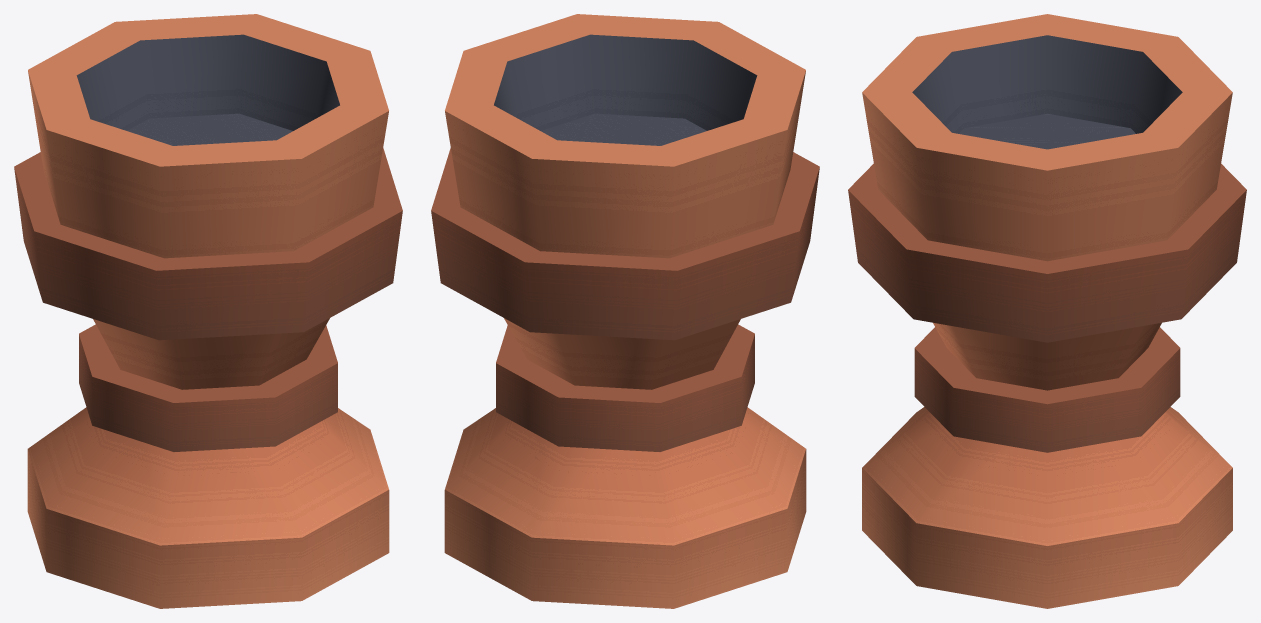
The model's file is hol-kwanzaa-kikombe.glb.
3 renders of one model, left to right at view 1: azimuth 30°, elevation 25°; view 2: azimuth 150°, elevation 25°; view 3: azimuth 270°, elevation 25°, orthographic.
Parts seen in each view (by area): view 1: kwanzaa-kikombe; view 2: kwanzaa-kikombe; view 3: kwanzaa-kikombe.
Part boxes in pixels (box(x1,y1,x2,y2)): kwanzaa-kikombe: box(14, 14, 402, 608); kwanzaa-kikombe: box(431, 14, 819, 608); kwanzaa-kikombe: box(848, 14, 1246, 608).
Size of the model in its own units: 0.2475 by 0.3 by 0.2475.
1 material, 1 textured.
